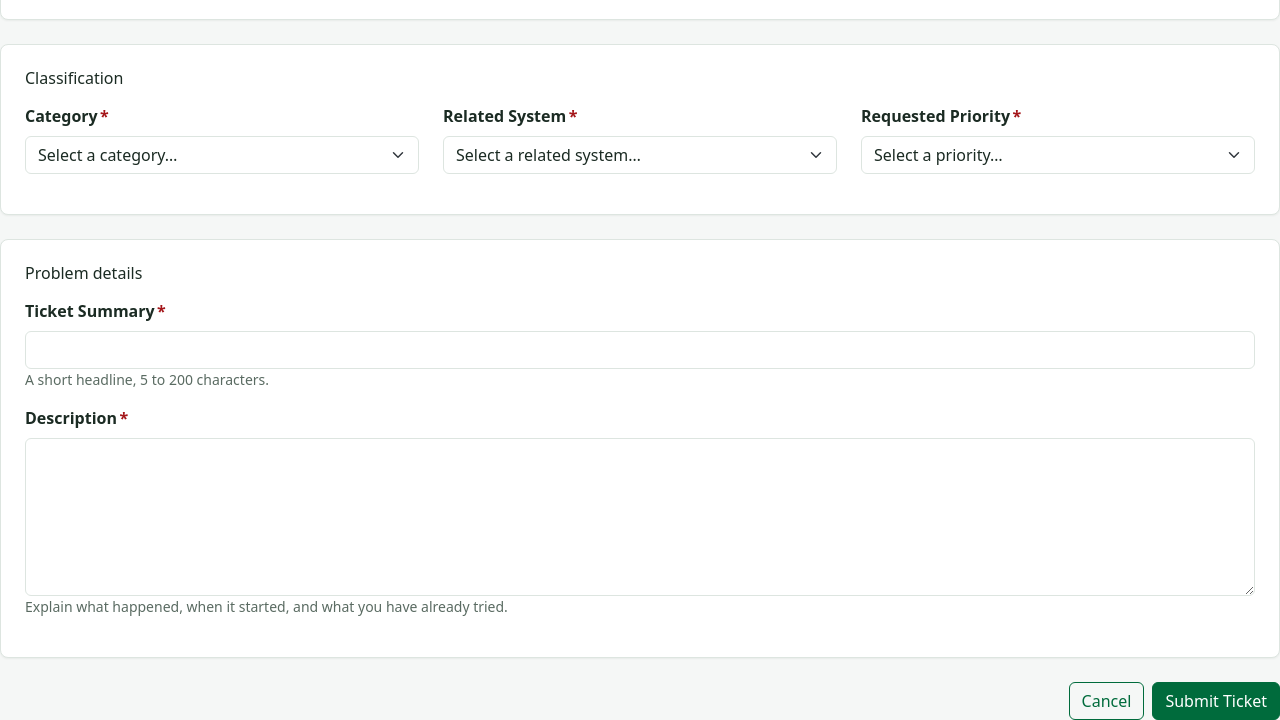
Test: Create Ticket — validation › clears a field's message as soon as that field is edited
(page scrolled)
expect the dropdown labelled "Category*" is shown: met, box [25,136,419,174]
Click the button "Submit Ticket" at {"x": 1216, "y": 701}, box [1152,682,1279,719]
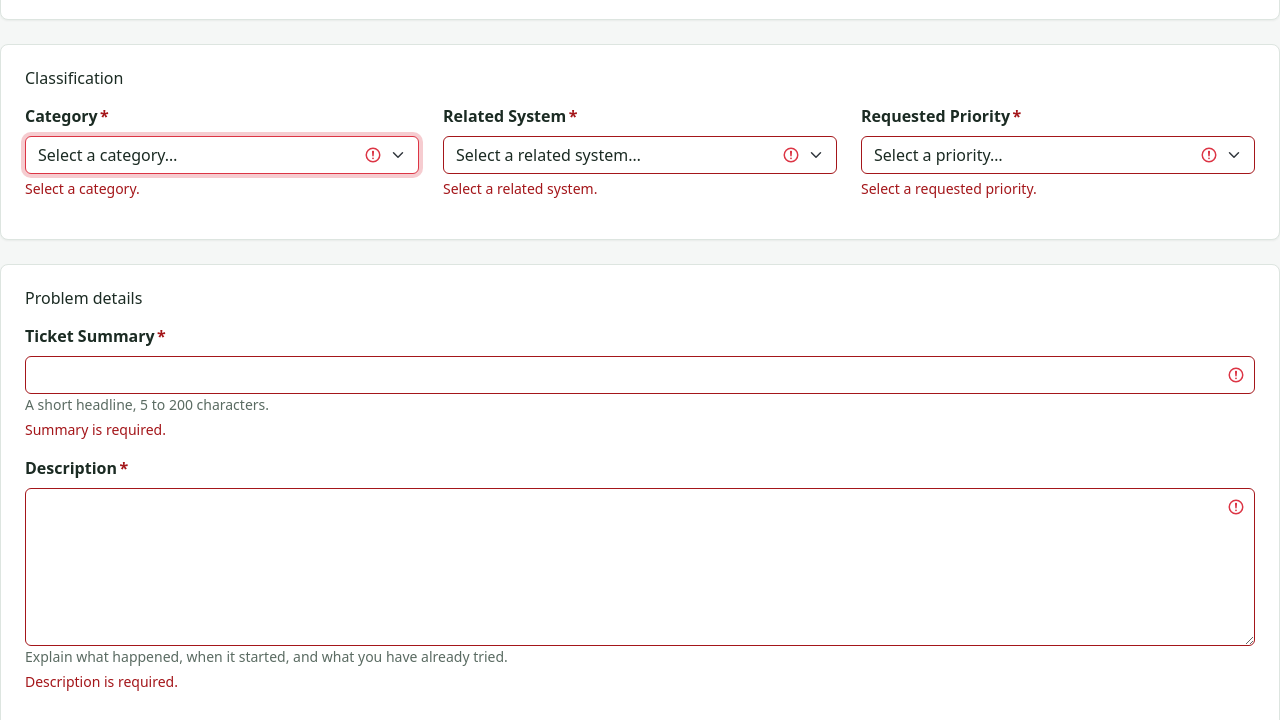
expect the text "Summary is required." is shown: met, box [25,420,166,439]
Type "Laptop battery drains quickly" into the field labelled "Ticket Summary*" at {"x": 640, "y": 375}, box [25,356,1255,394]
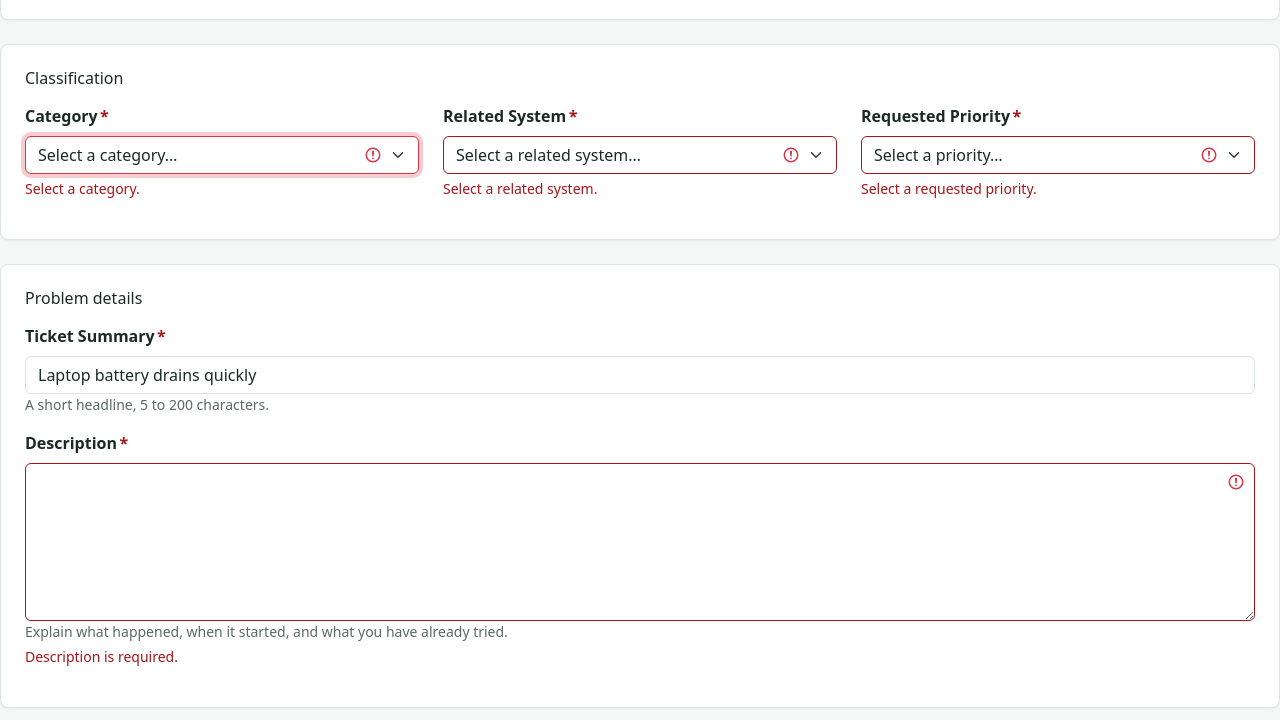
expect the text "Description is required." is shown: met, box [25,647,178,666]
expect the text "Summary is required." is gone: met
